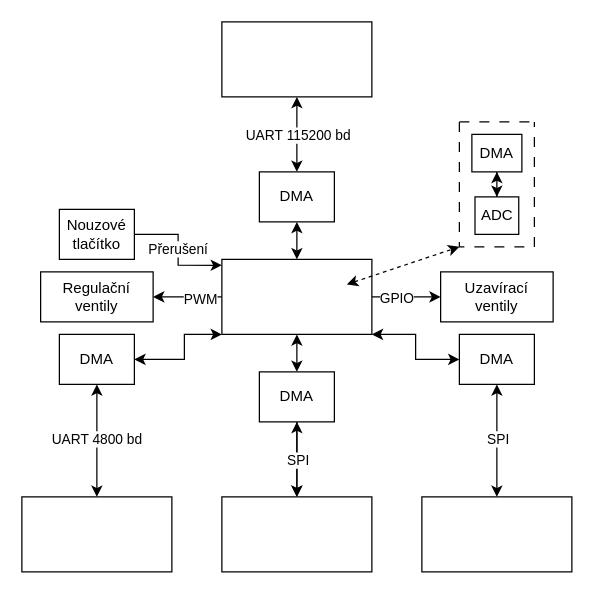
Image size: 594x594. Some labels were removed from this diagram. The centre of each missing label's shape, as x and y in pixels:
"FLASH" belongs at (496,534).
"MCP3561" belongs at (296,534).
"MCU" belongs at (296,296).
"Nadřazený systém" belongs at (296,59).
"PAR Modul" belongs at (96,534).
